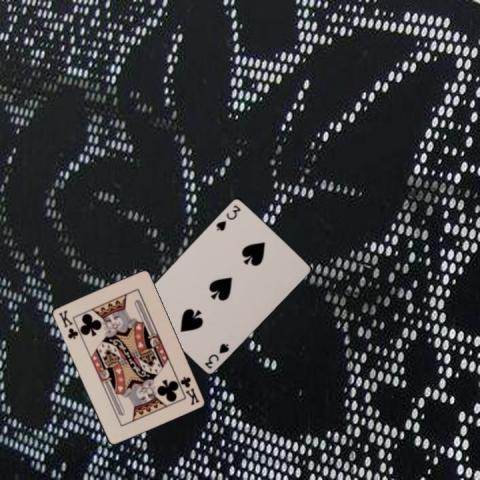3s: (201, 340, 231, 370), (213, 201, 242, 232)
Kc: (56, 307, 80, 341), (176, 373, 200, 407)
